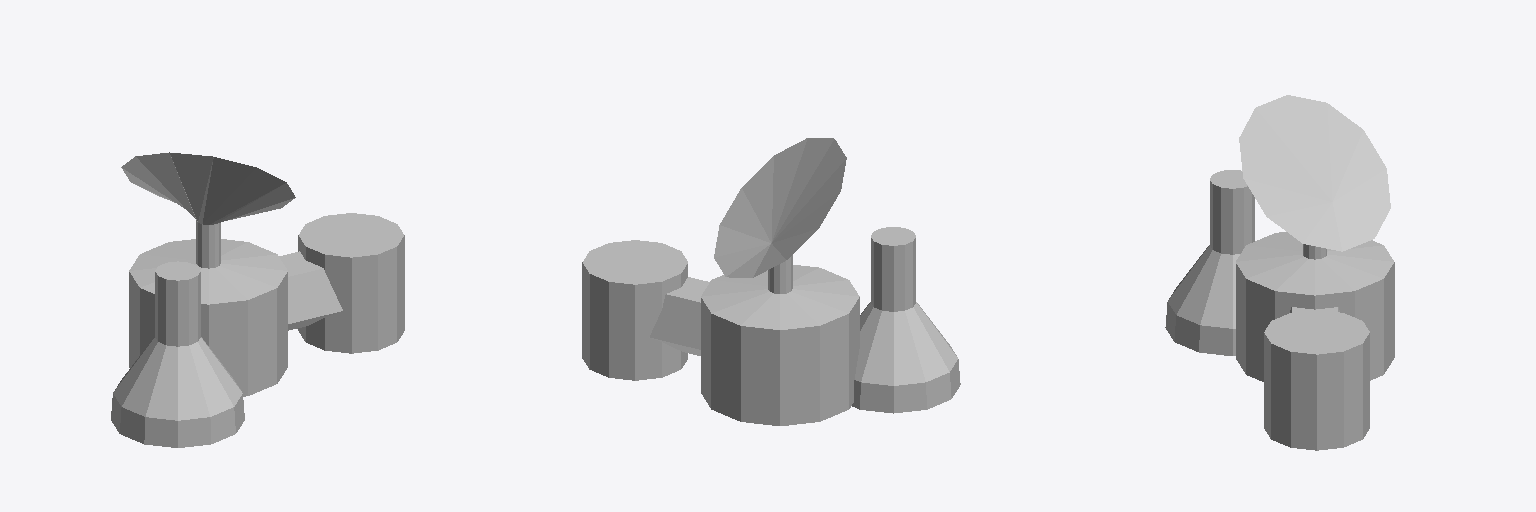
The model's file is sciencebase.obj.
3 views of the same model, side by side, from view 1: azimuth 30°, elevation 25°; view 2: azimuth 150°, elevation 25°; view 3: azimuth 270°, elevation 25° (orthographic).
Parts seen in each view (by area): view 1: pCylinder2, pasted__pCylinder7 group, pCylinder3, pCylinder1; view 2: pCylinder2, pasted__pCylinder7 group, pCylinder3, pCylinder1; view 3: pCylinder2, pCylinder3, pasted__pCylinder7 group.
Boxes of the visible parts, <box> form: pCylinder2: <box>121,152,295,396</box>; pasted__pCylinder7 group: <box>111,261,244,447</box>; pCylinder3: <box>298,213,404,353</box>; pCylinder1: <box>279,251,342,330</box>; pCylinder2: <box>701,138,859,425</box>; pasted__pCylinder7 group: <box>852,227,960,413</box>; pCylinder3: <box>582,240,687,380</box>; pCylinder1: <box>649,277,709,355</box>; pCylinder2: <box>1236,95,1394,381</box>; pCylinder3: <box>1264,310,1369,450</box>; pasted__pCylinder7 group: <box>1165,170,1254,355</box>.
Bounding box in the file's own units: 6.97 × 5.07 × 4.32.